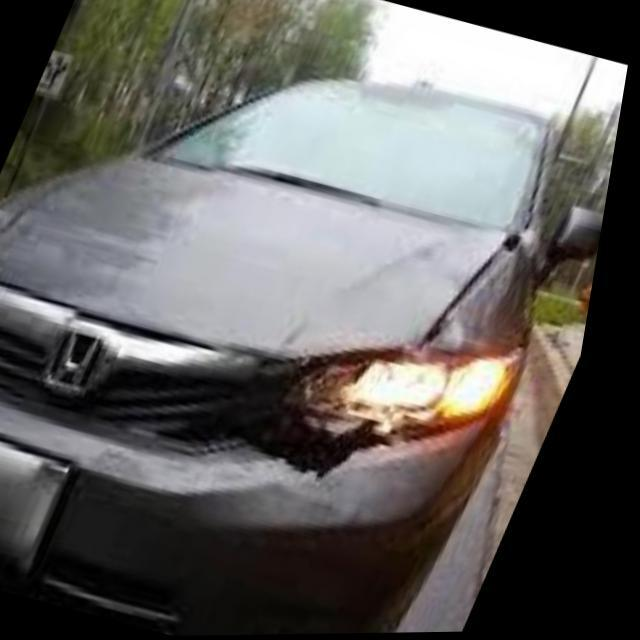lamp broken: (166, 229, 529, 497)
